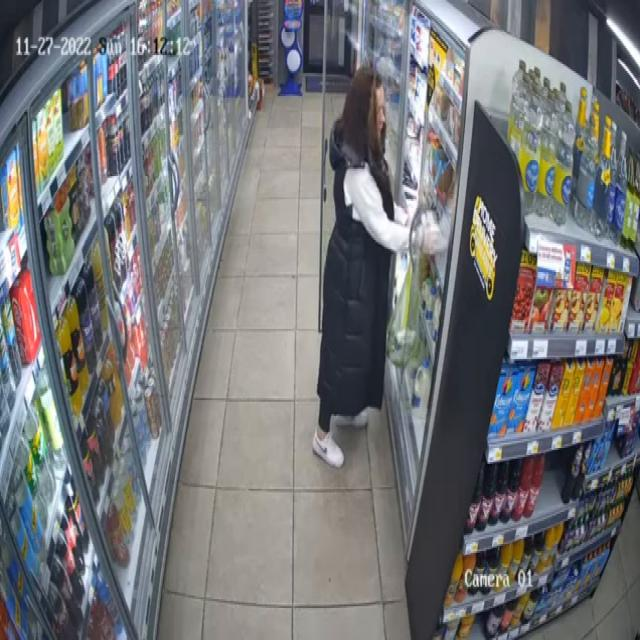person: (312, 69, 409, 468)
